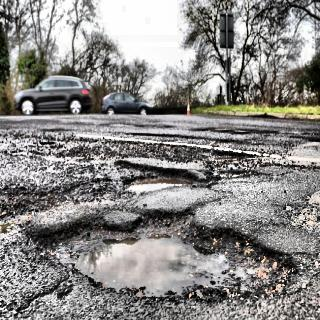pothole: (34, 208, 295, 305), (112, 155, 197, 197)
